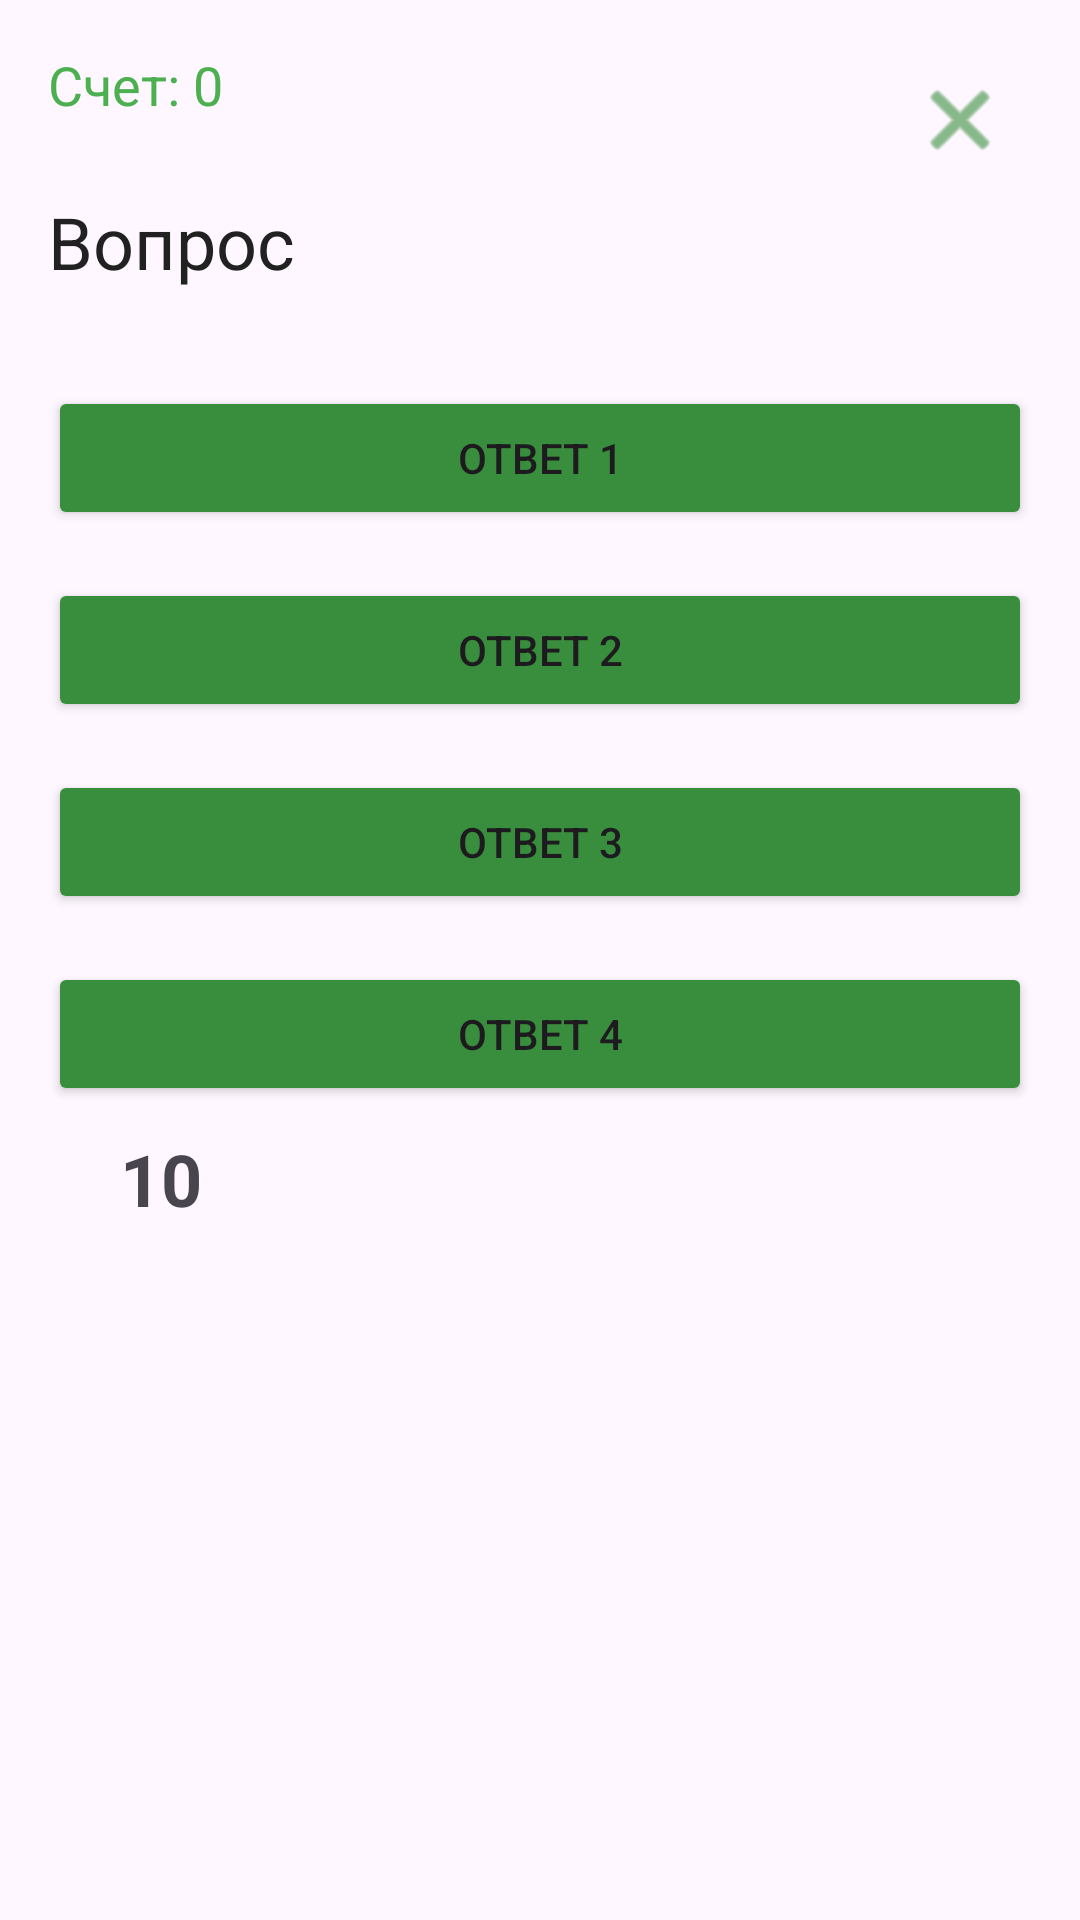

Named icons in this screenshot (1080x1920) and their bounding boxes, (x1, y1, x2, y2):
close clear cancel: (930, 90, 990, 150)
